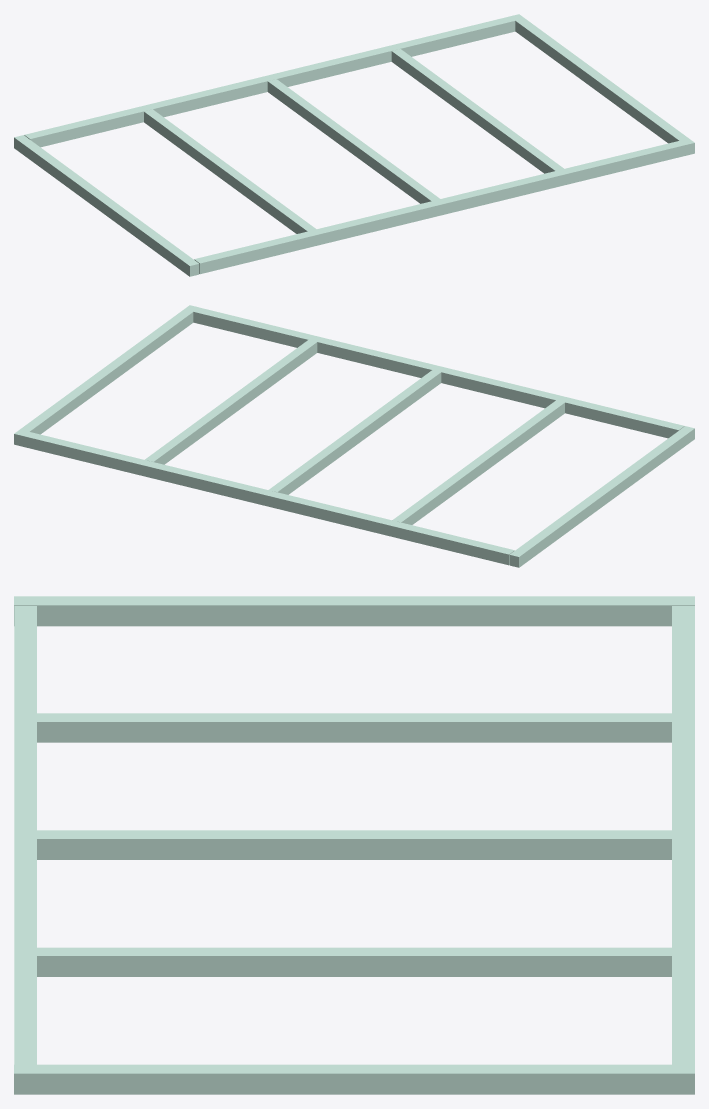
The picture shows the model from 3 angles, top to bottom: view 1: azimuth 30°, elevation 25°; view 2: azimuth 150°, elevation 25°; view 3: azimuth 270°, elevation 25°; orthographic projection. The views are drawn at different scales.
Parts seen in each view (by area): view 1: Renderer Node; view 2: Renderer Node; view 3: Renderer Node.
Part boxes in pixels (x1,y1,x2,y2): Renderer Node: [14, 14, 694, 276]; Renderer Node: [14, 305, 694, 567]; Renderer Node: [14, 596, 694, 1094].
Size of the model in its own units: 0.7646 by 0.0156 by 0.4609.
